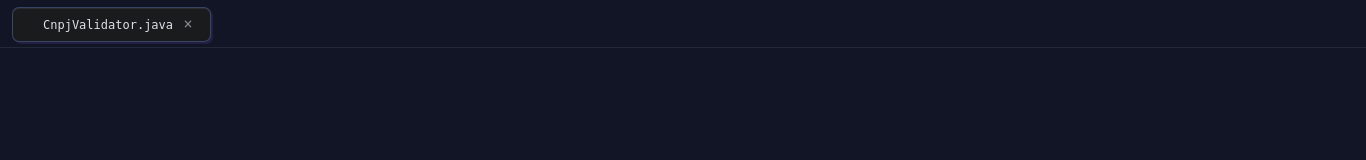
Test case: arrow keys move focus inside the menu and Enter does not close it before activation
Press ContextMenu in the tab with class "editor-tab", box 12,7 -> 211,42
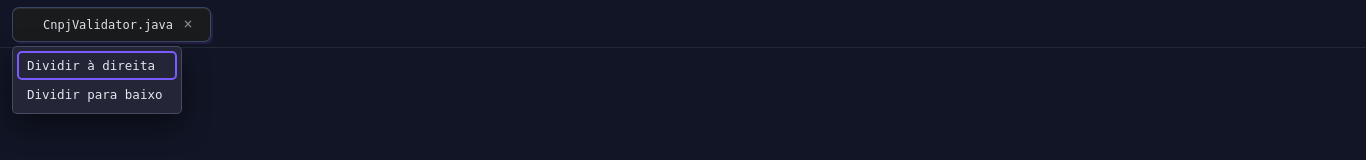
Press ArrowDown in the menu with class "editor-context-menu", box 12,46 -> 182,114
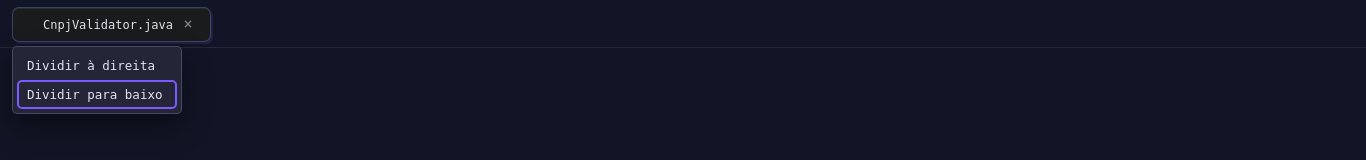
Press ArrowUp in the menu with class "editor-context-menu", box 12,46 -> 182,114
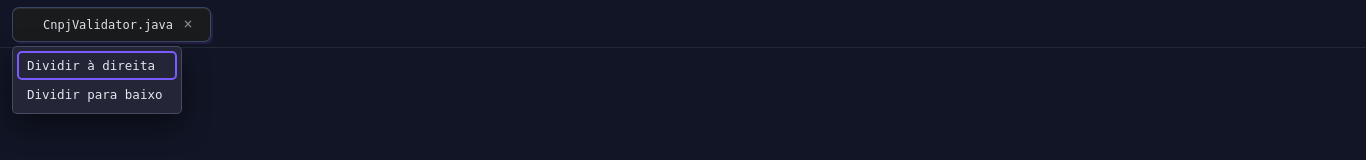
Press ArrowDown in the menu with class "editor-context-menu", box 12,46 -> 182,114
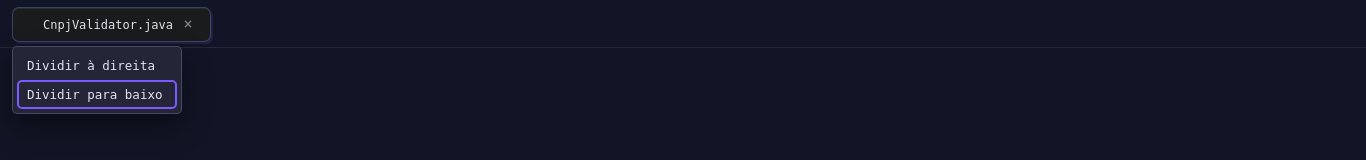
Press Enter in the menu item "Dividir para baixo", box 17,80 -> 177,109
Now the menu with class "editor-context-menu" is shown, box 12,46 -> 182,114
Click the menu item "Dividir para baixo".
click(97, 94)  # box 17,80 -> 177,109
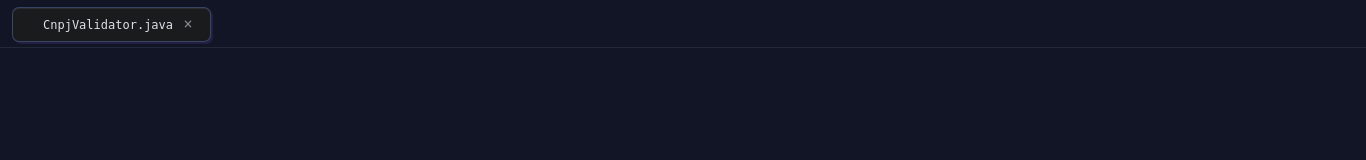
Now the menu with class "editor-context-menu" is gone
